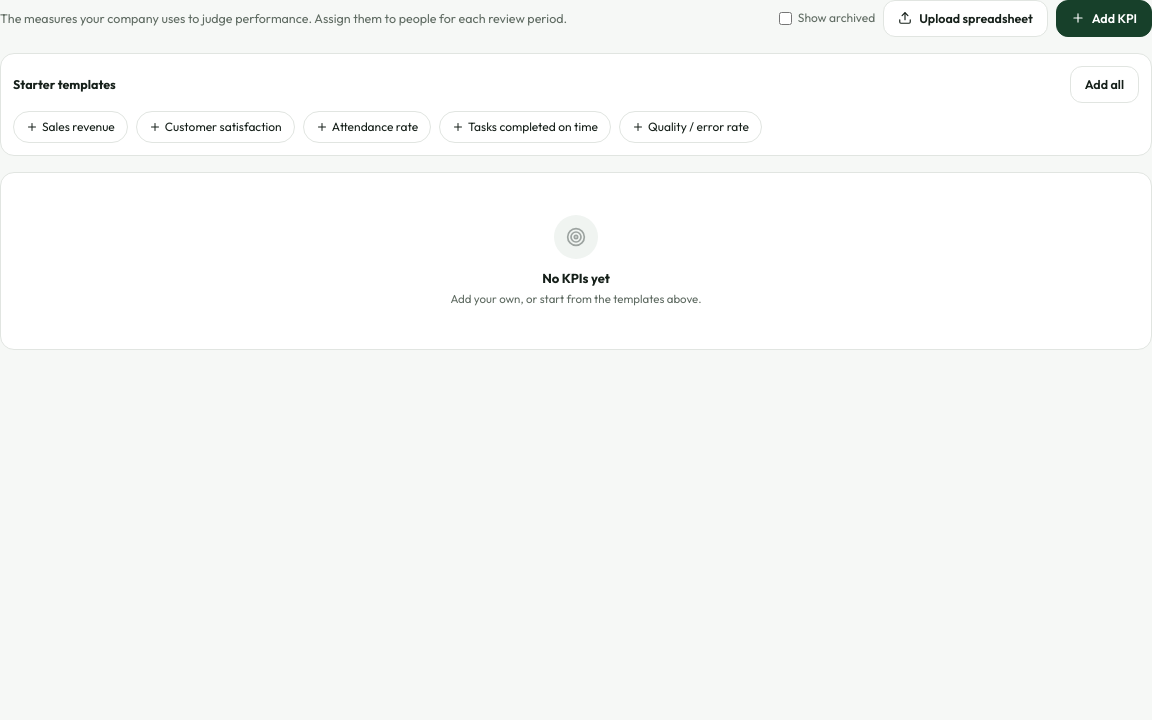
Test case: KPI library › offers attendance measures, worked out from clock-ins
This screenshot has width=1152, height=720.
Click the button "Add KPI" at [1104, 18], box [1056,0,1151,37]
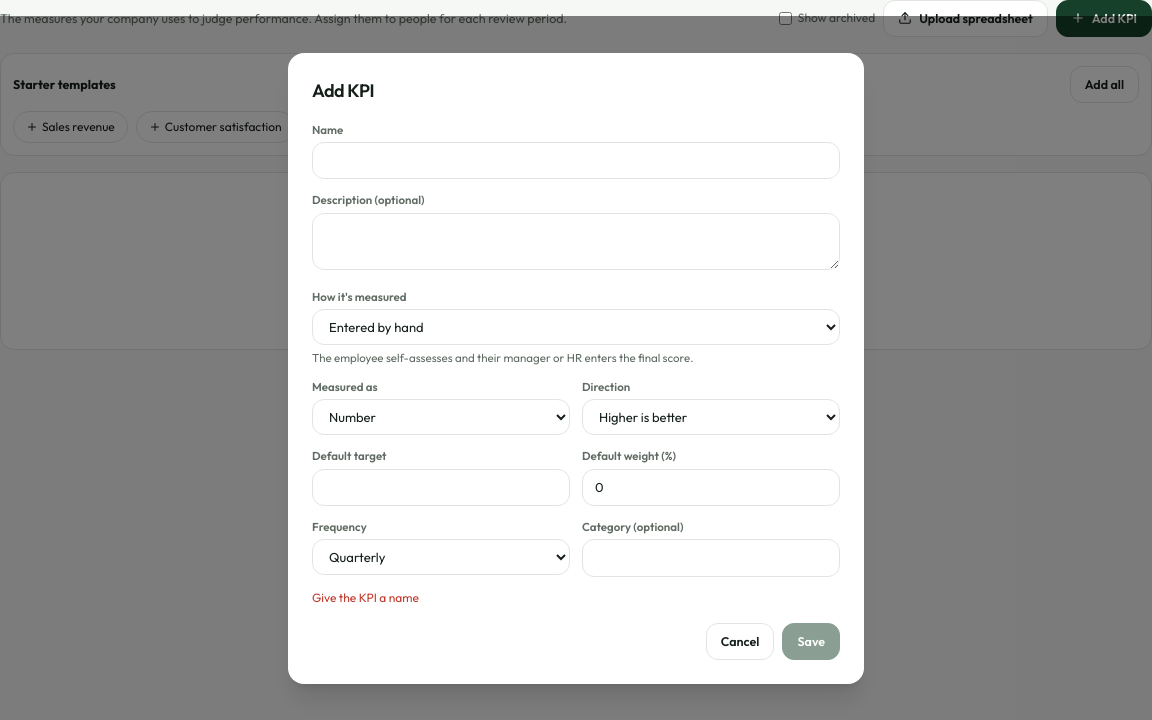
Select "Punctuality (%)" in the dropdown labelled "How it's measured" at [576, 327], box [312,309,840,345]
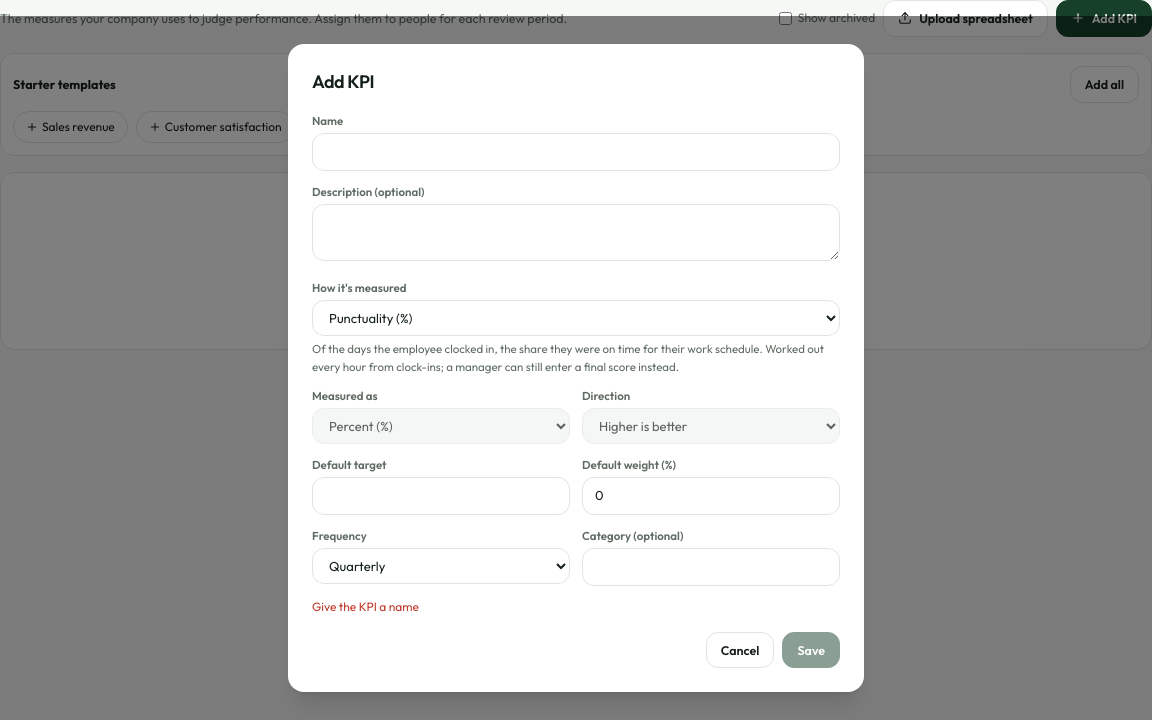
Check: the dropdown labelled "Measured as" shows "Percent (%)", box [312,408,570,444]
